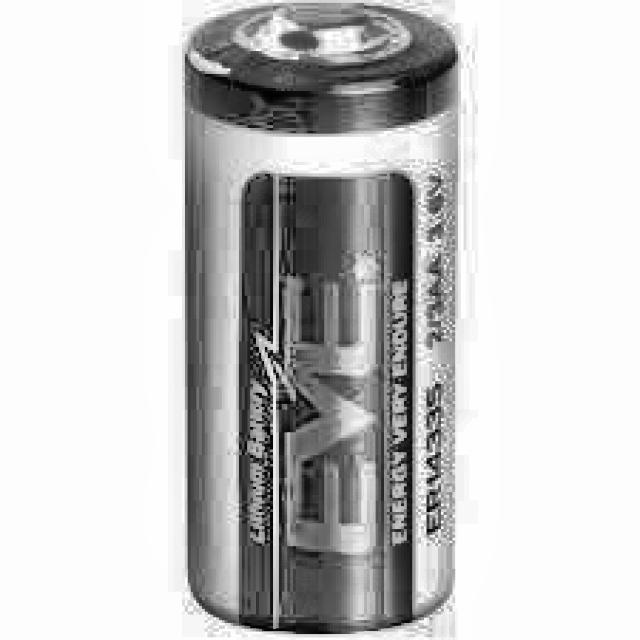Battery: (185, 8, 455, 623)
